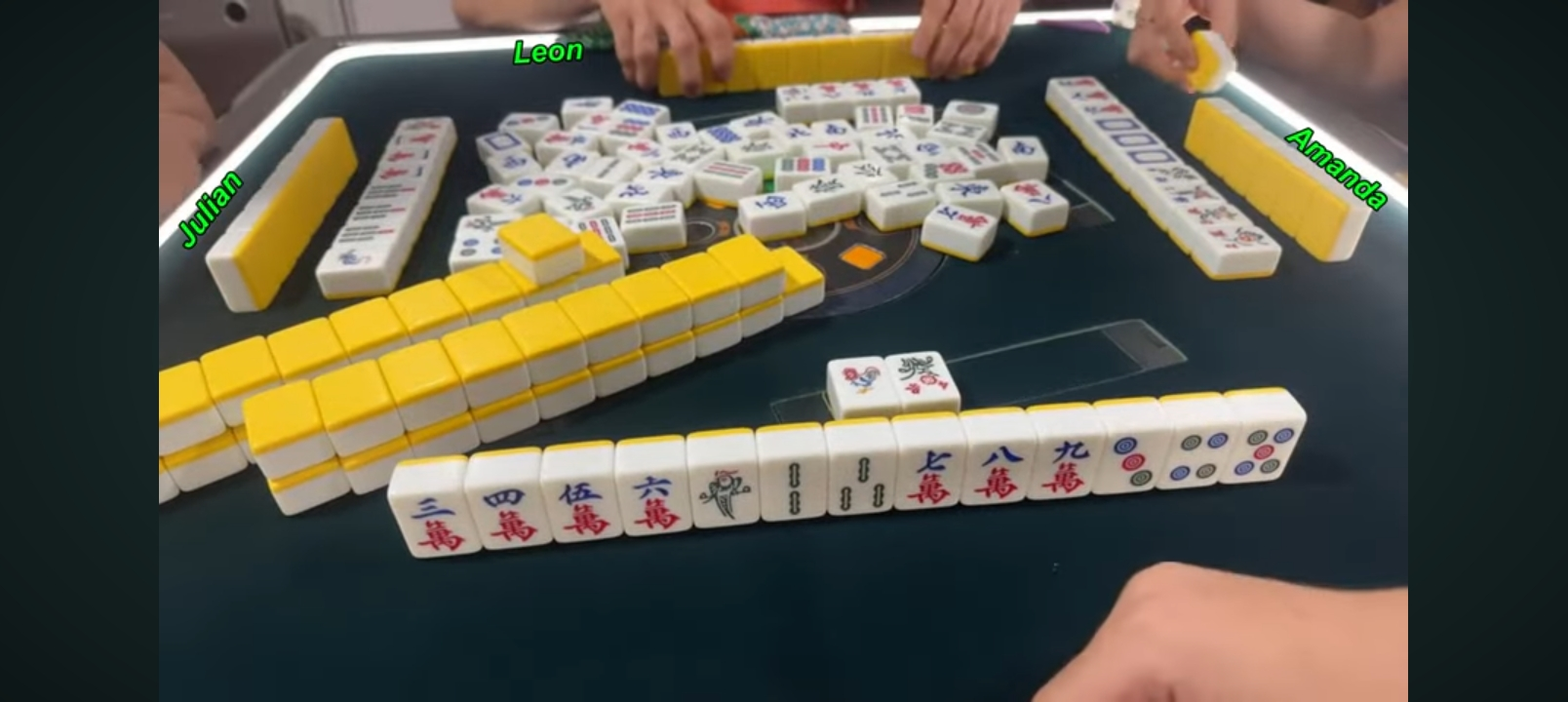TILE: (388, 490, 479, 556), (544, 477, 624, 538), (469, 488, 549, 548), (689, 464, 761, 526), (1232, 422, 1304, 484), (616, 473, 692, 530), (1032, 436, 1103, 497), (898, 446, 965, 508), (965, 442, 1034, 502), (759, 460, 827, 518), (1103, 431, 1167, 492), (828, 455, 894, 514), (1171, 427, 1234, 488), (888, 350, 959, 402), (827, 356, 892, 407)
